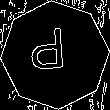P_S: (35, 28, 75, 82)
